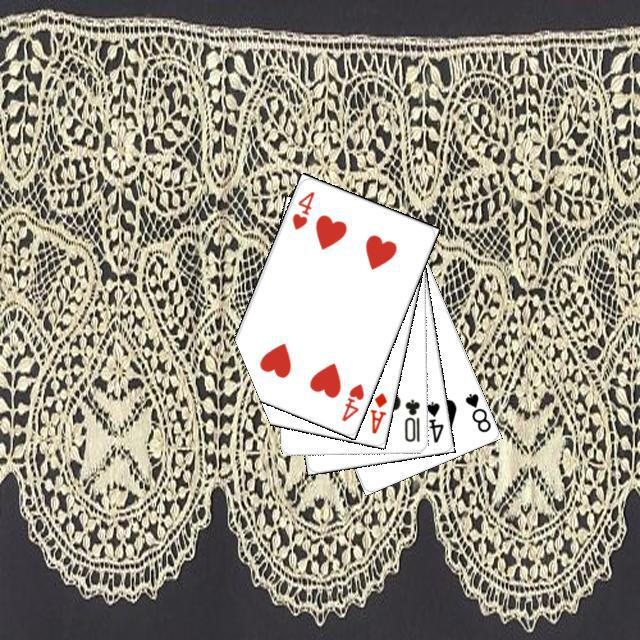10c: (399, 394, 421, 443)
4h: (336, 378, 366, 423), (287, 186, 316, 232)
4s: (421, 396, 445, 444)
8s: (460, 388, 493, 434)
Ad: (365, 388, 389, 436)
